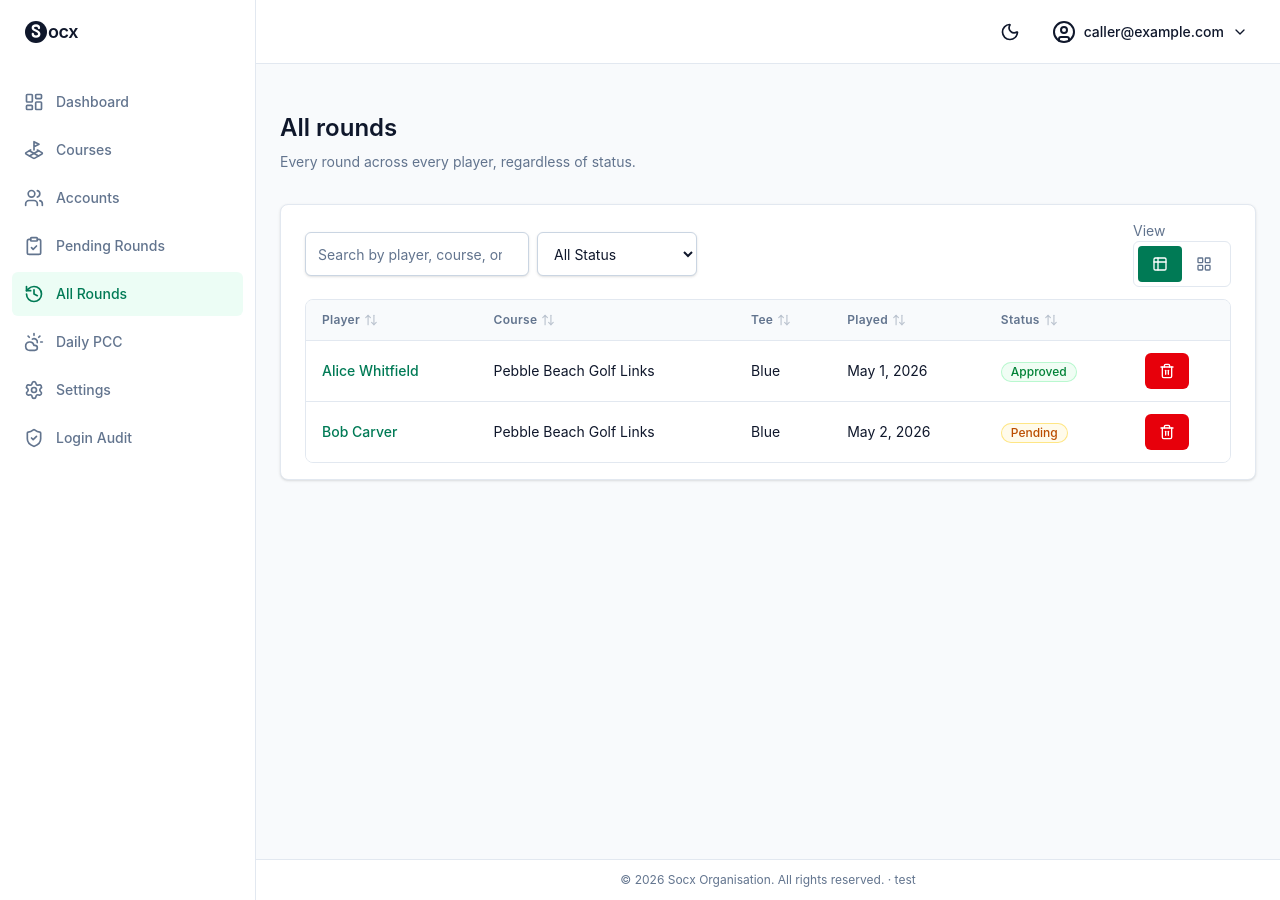
AdminRoundsListPage › delete › deletes the round, shows a toast reflecting the real recalculation outcome, and genuinely refetches the list (the deleted round disappears)
Expected: the link "Alice Whitfield" is shown, x1=322 y1=362 x2=419 y2=379
Click the button named "Delete Alice Whitfield's round". click: click(1167, 371)
box: x1=1145 y1=353 x2=1189 y2=389
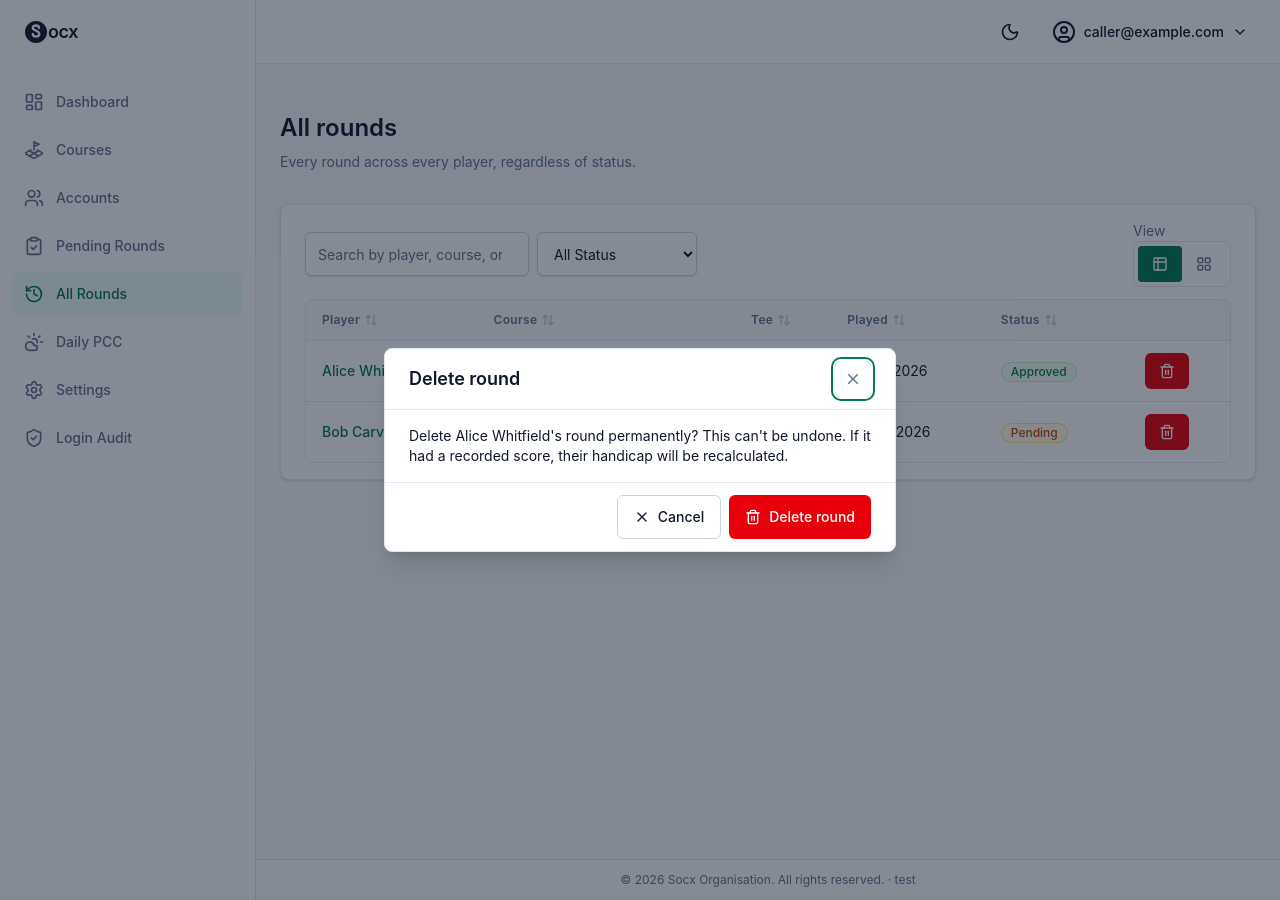
Expected: the dialog "Delete round" shows "Alice Whitfield", x1=384 y1=348 x2=896 y2=552
Click the button "Delete round". click: click(800, 517)
box: x1=729 y1=495 x2=871 y2=539
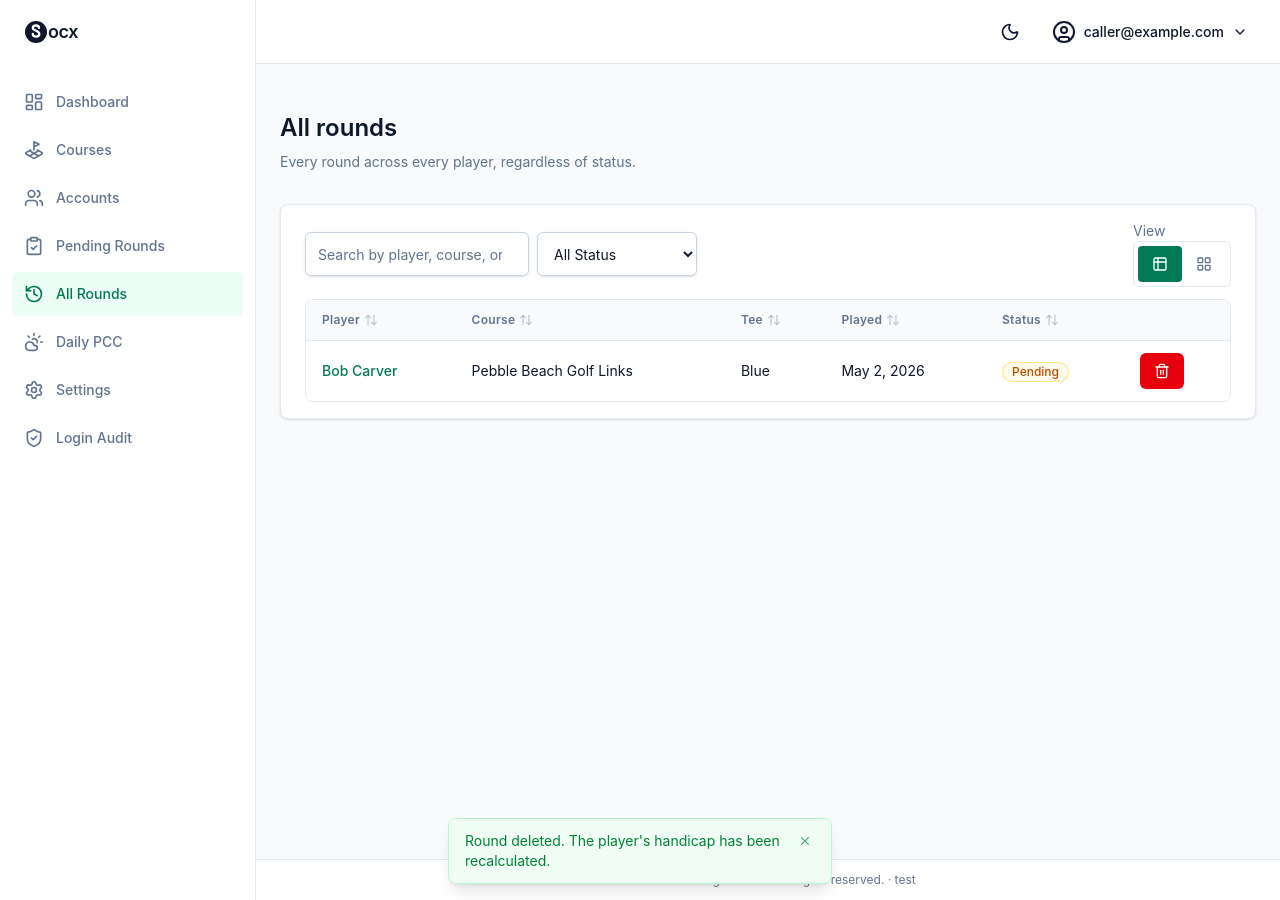
Expected: the message shows "The player's handicap has been recalculated.", x1=465 y1=832 x2=780 y2=869
Expected: the dialog is gone
Expected: the link "Alice Whitfield" is gone
